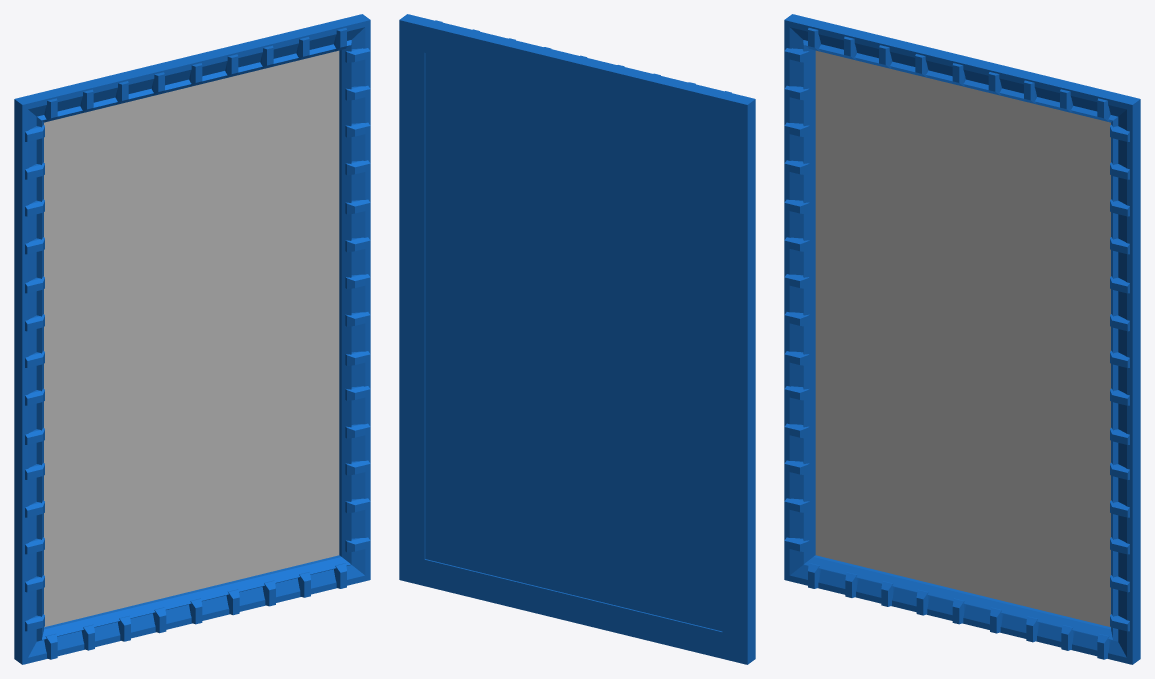
Rendered from SM_painting2.fbx.
3 renders of one model, left to right at view 1: azimuth 30°, elevation 25°; view 2: azimuth 150°, elevation 25°; view 3: azimuth 330°, elevation 25°, orthographic.
Visible parts, largest first — view 1: painting2; view 2: painting2; view 3: painting2.
Boxes of the visible parts, bbox=[...] form: painting2: bbox=[14, 14, 370, 664]; painting2: bbox=[399, 14, 755, 664]; painting2: bbox=[784, 14, 1140, 664].
Size of the model in its own units: 87.06 by 134 by 4.59.
